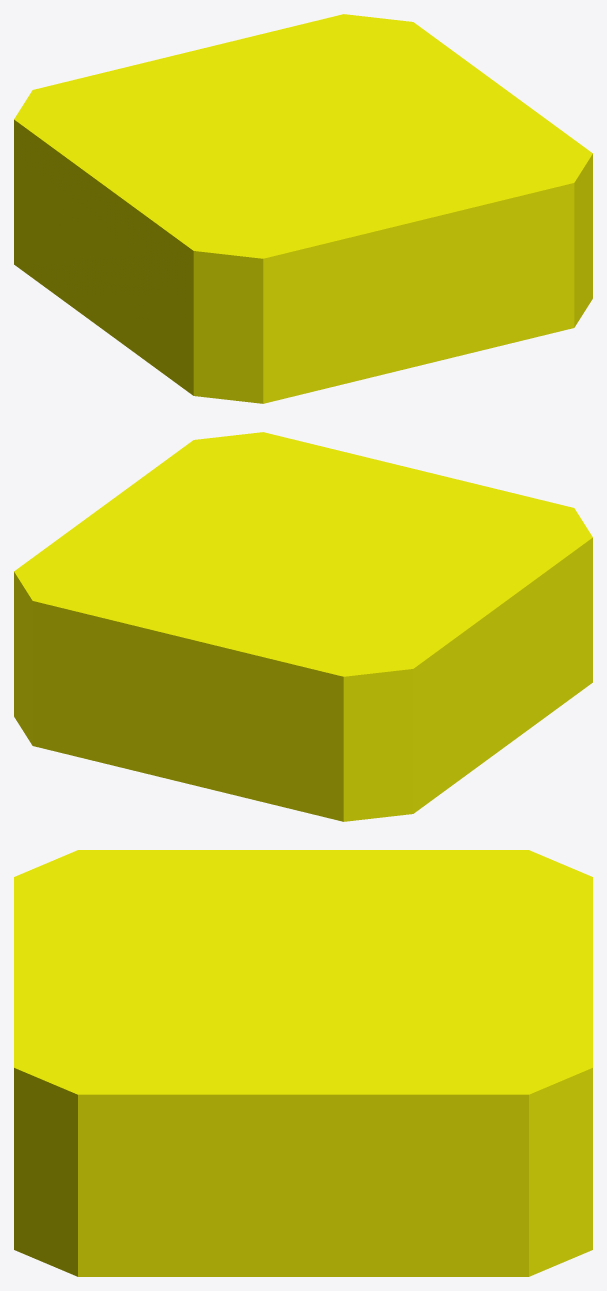
File: waffle_base.dae
3 renders of one model, top to bottom at view 1: azimuth 30°, elevation 25°; view 2: azimuth 150°, elevation 25°; view 3: azimuth 270°, elevation 25°, orthographic. The views are drawn at different scales.
Parts seen in each view (by area): view 1: Cube.001; view 2: Cube.001; view 3: Cube.001.
Boxes of the visible parts, left/top/right/bottom form: Cube.001: left=14, top=14, right=592, bottom=403; Cube.001: left=14, top=432, right=592, bottom=821; Cube.001: left=14, top=850, right=592, bottom=1276.
Bounding box in the file's own units: 265 × 265 × 92.
